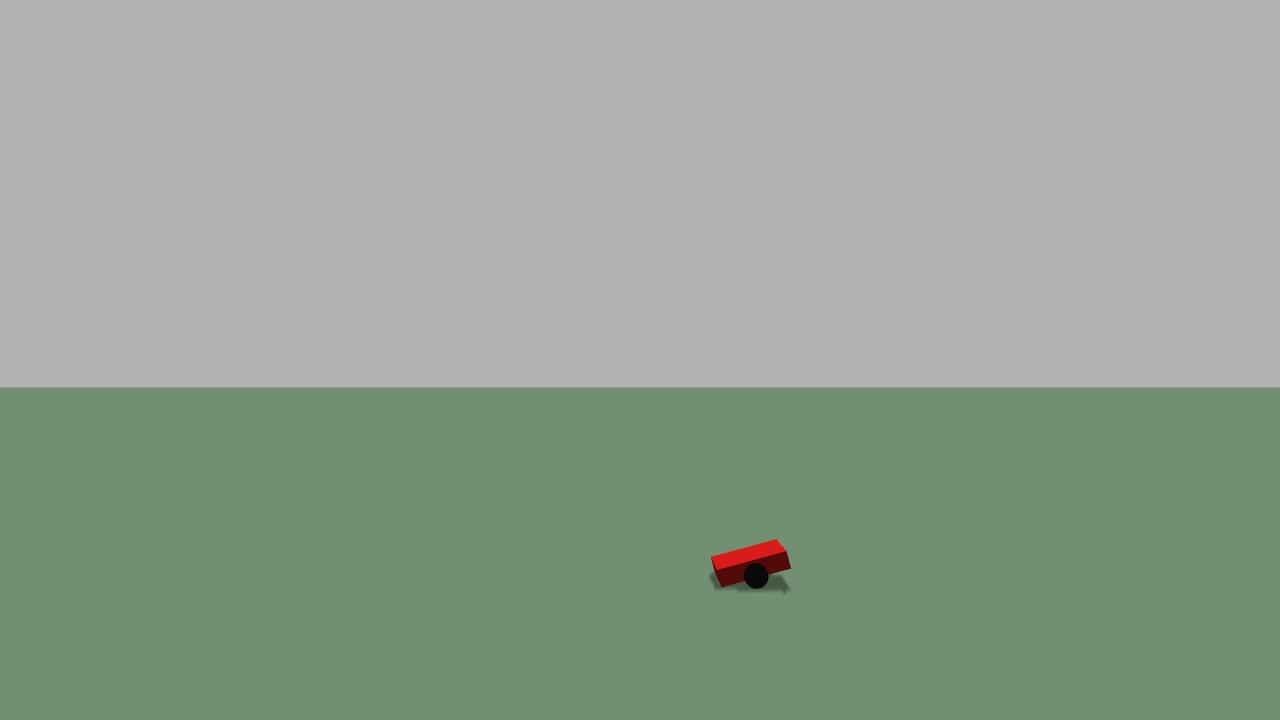ground_vehicle: (701, 539, 796, 595)
